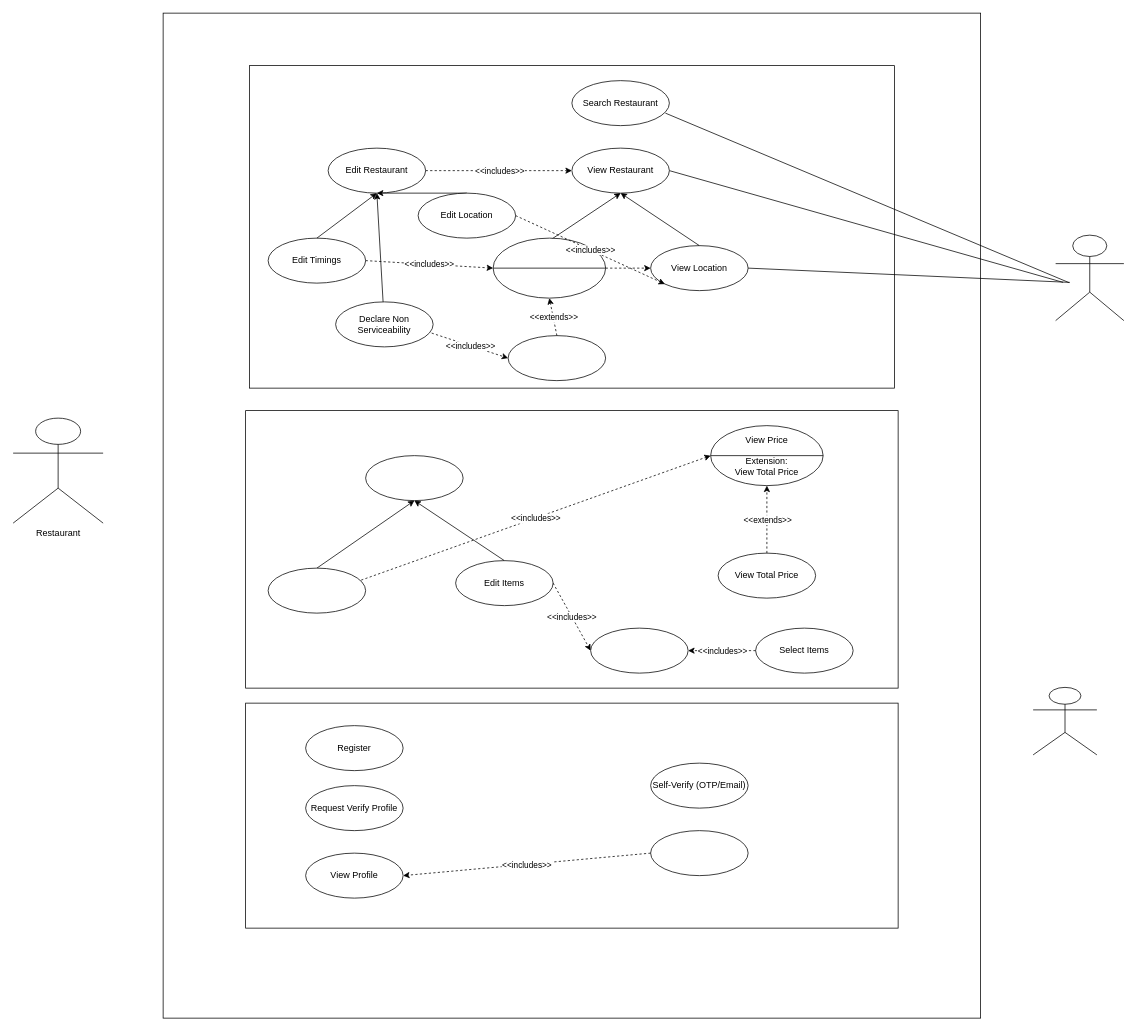
Some shapes in this 1137 by 1031 pixel diagram are drawn without their labels. Each missing label, with the centre of its shape:
Admin: the point at 1064,721
Authorize Profile: the point at 699,853
Current Open Status: the point at 556,358
Customer: the point at 1089,277
Edit Menu: the point at 414,478
Edit Price: the point at 316,590
View Items: the point at 639,650
View Timing Extension: Current Open Status: the point at 549,267
